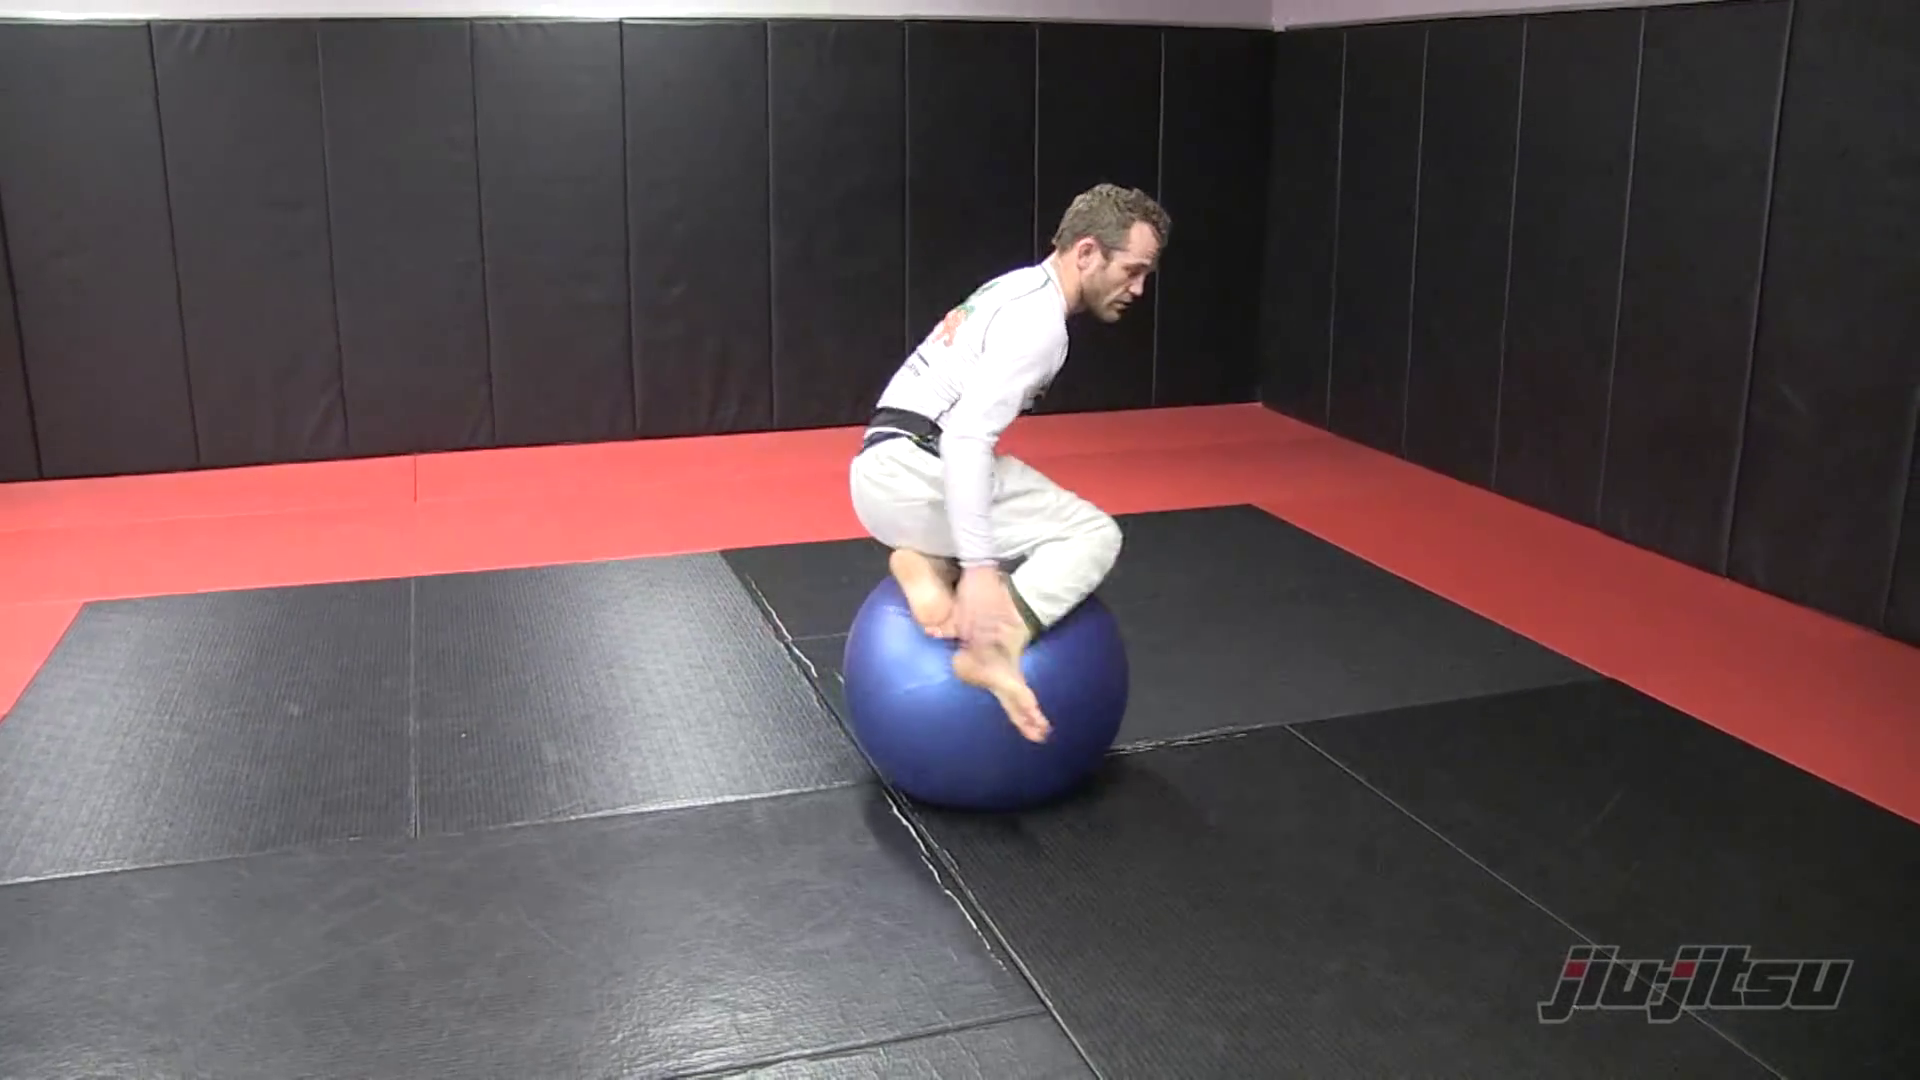yogaball: (827, 546, 1143, 835)
